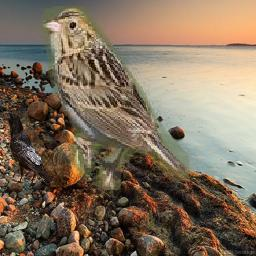Crow: (3, 111, 53, 183)
Sparrow: (42, 6, 191, 190)
